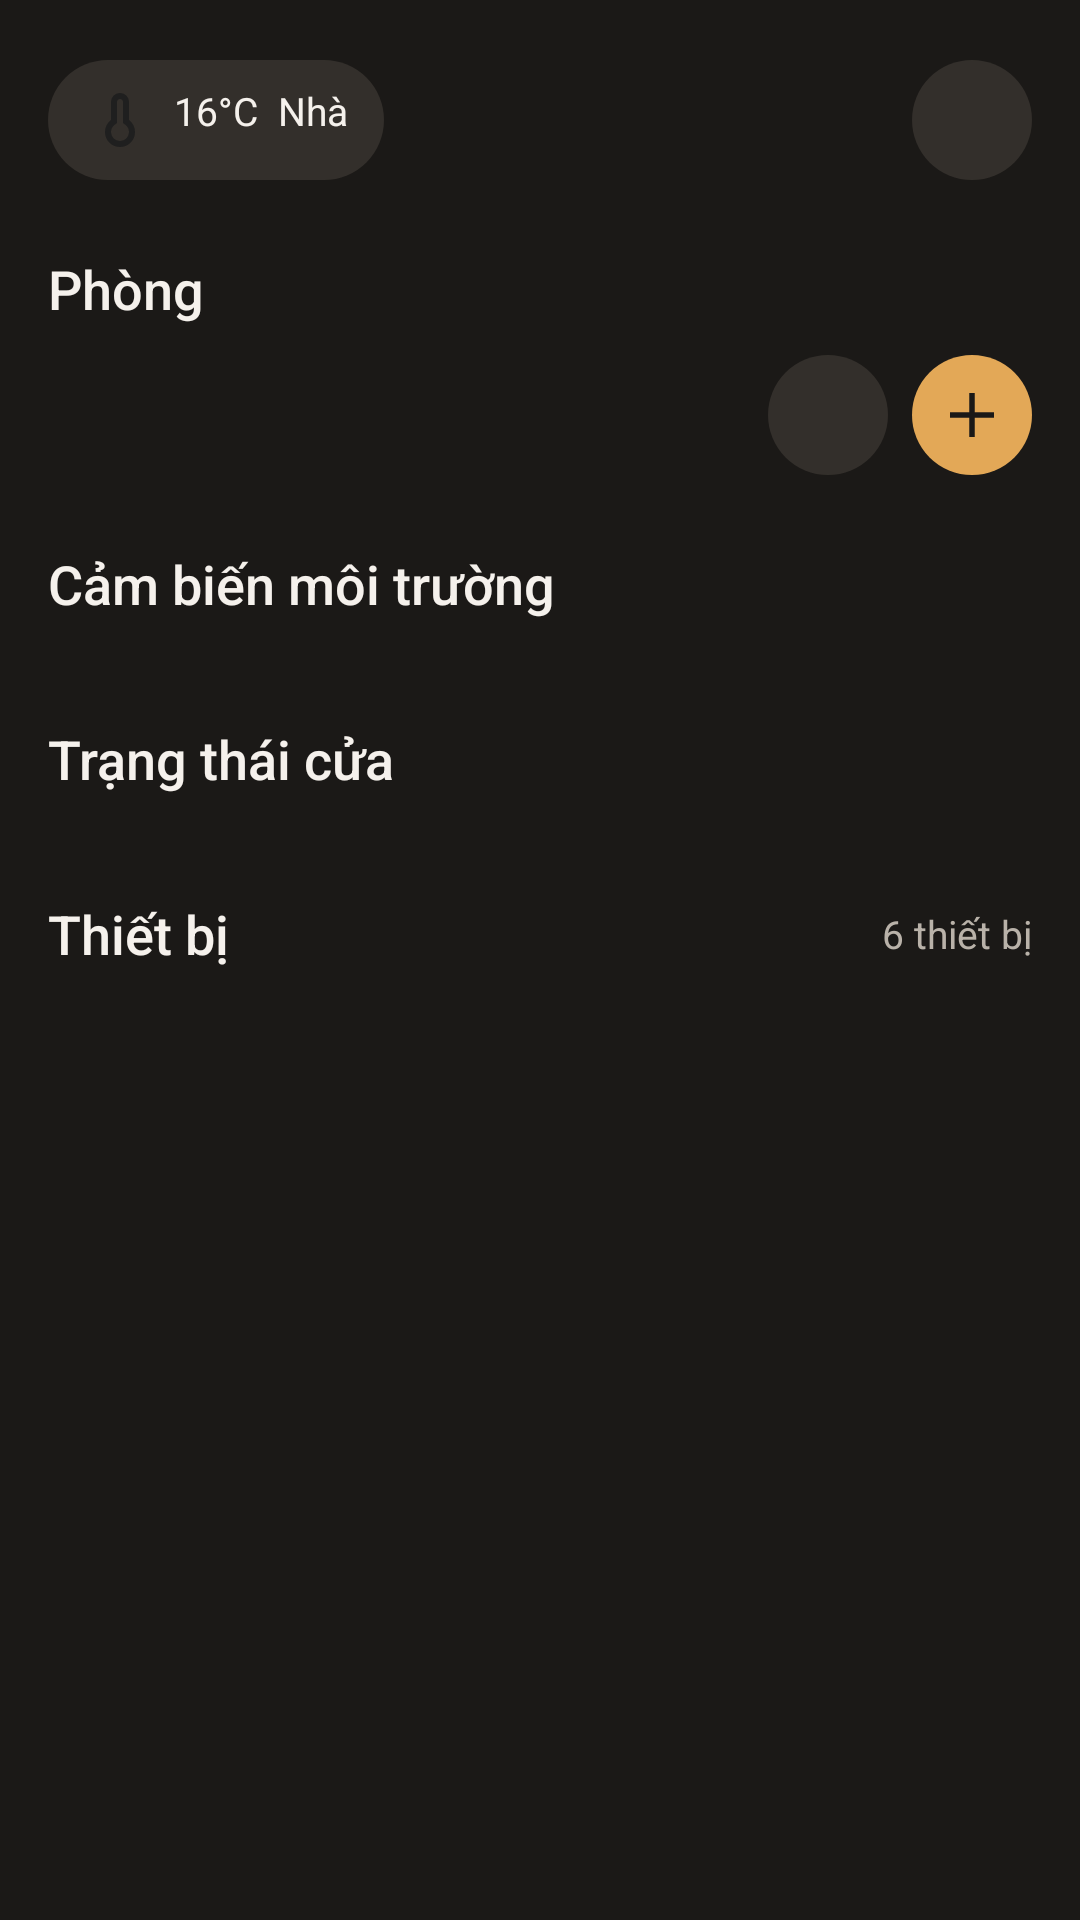

Screen size 1080 × 1920. Icon name, then its box in pixels as (left=x1, top=y1, right=x2, bottom=y2):
plus: (left=912, top=355, right=1032, bottom=475)
